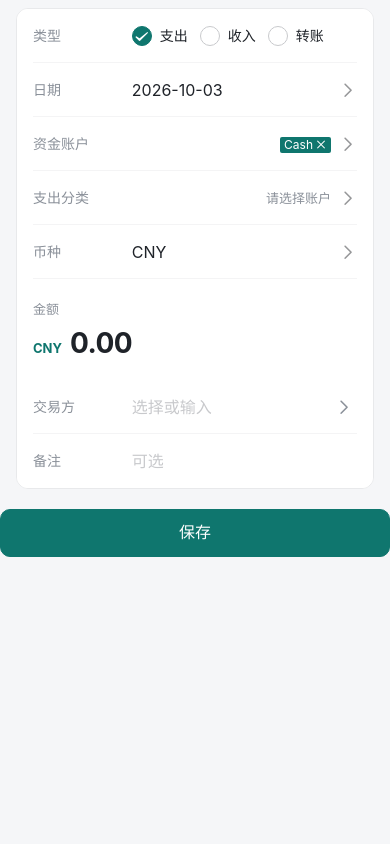
it: TransactionForm › resets amount and category while keeping funding account for continuous entry
Click the button named "选择交易方". click: (344, 407)
box: [331, 391, 357, 423]
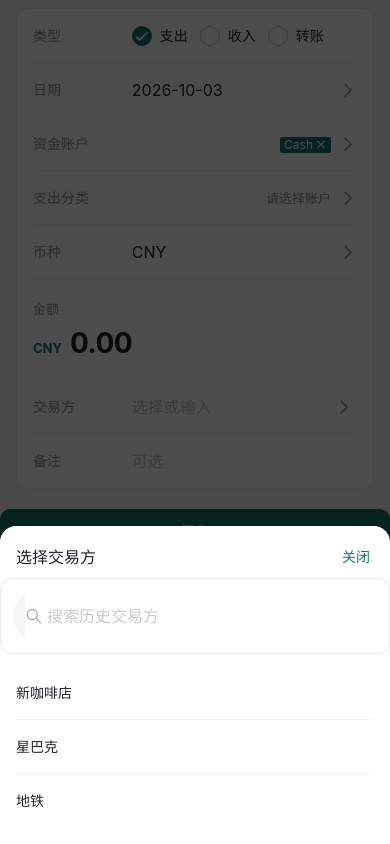
Now the text "新咖啡店" is shown, box [16, 684, 72, 701]
